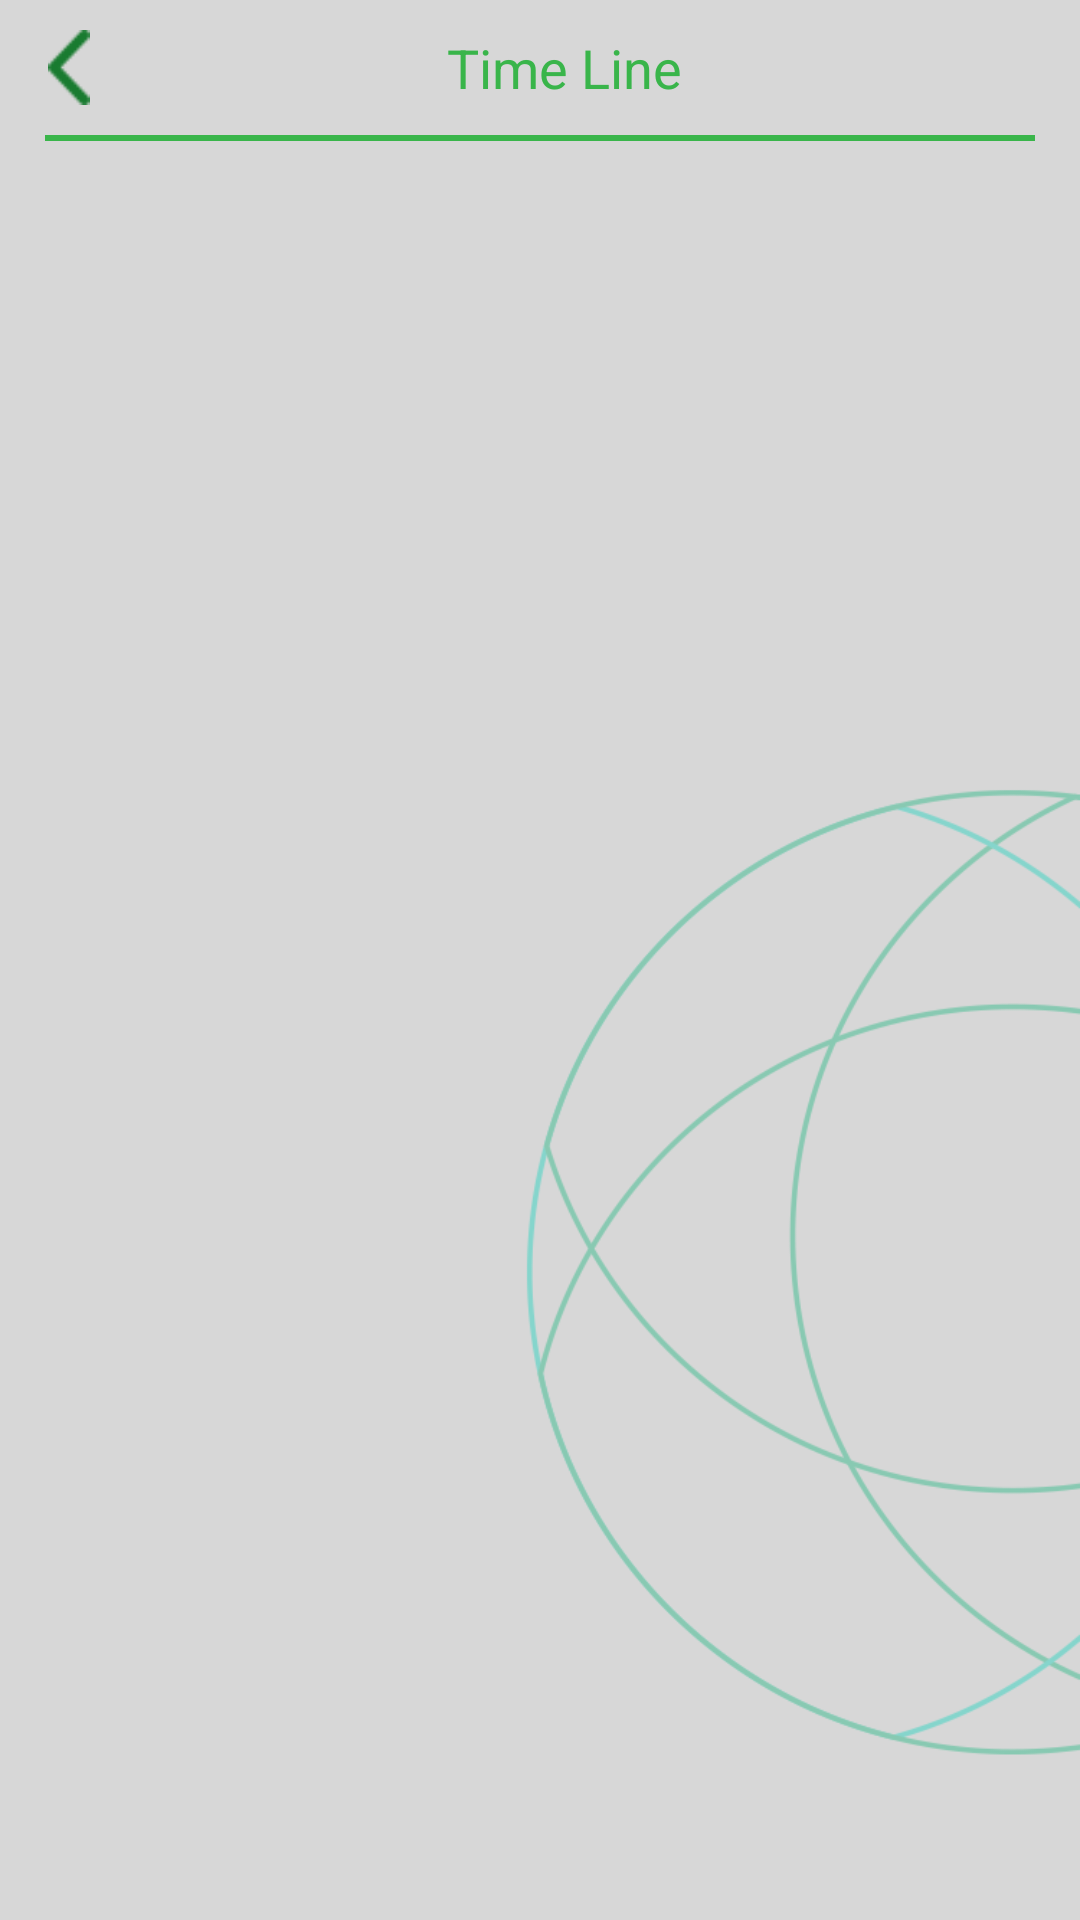

Screen size 1080×1920. Icon name, then its box in pixels as {"left": x1, "top": y1, "right": x2, "bottom": y2}:
btleft: {"left": 48, "top": 30, "right": 90, "bottom": 105}
